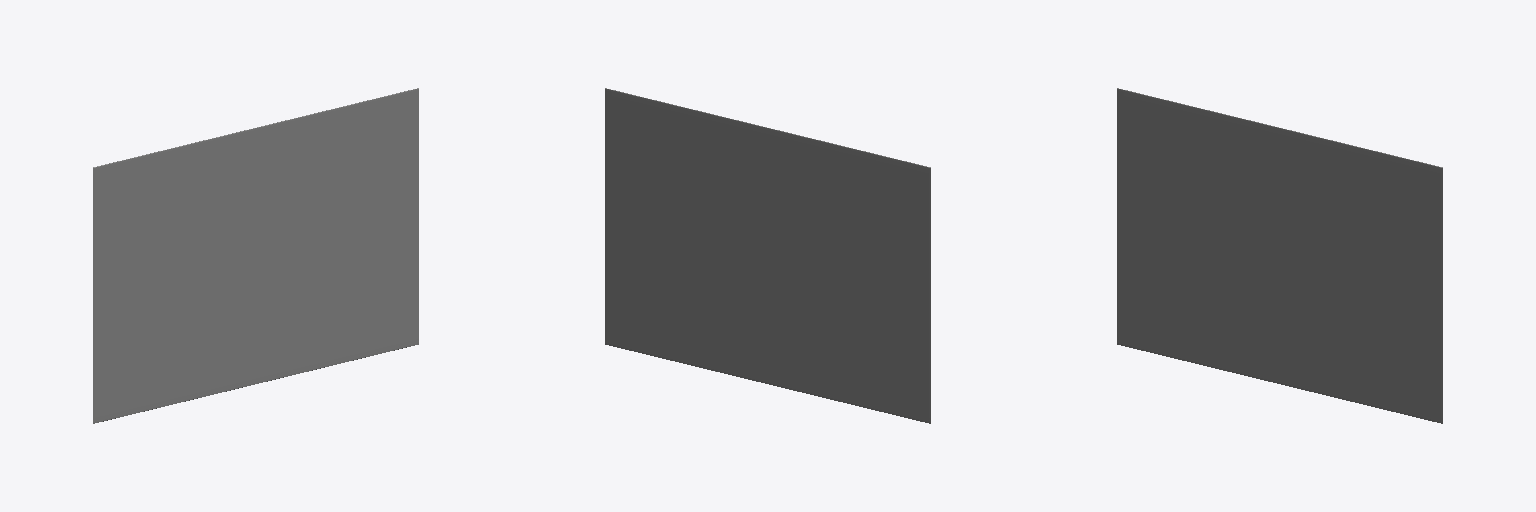
The model's file is alfombra.obj.
The picture shows the model from 3 angles: view 1: azimuth 30°, elevation 25°; view 2: azimuth 150°, elevation 25°; view 3: azimuth 330°, elevation 25°; orthographic projection.
Parts seen in each view (by area): view 1: 10417_Rectangular_rug_v1; view 2: 10417_Rectangular_rug_v1; view 3: 10417_Rectangular_rug_v1.
Part boxes in pixels (x1,y1,x2,y2): 10417_Rectangular_rug_v1: (93, 88, 418, 423); 10417_Rectangular_rug_v1: (605, 88, 930, 423); 10417_Rectangular_rug_v1: (1117, 88, 1442, 423).
Size of the model in its own units: 200 by 150 by 0.6884.